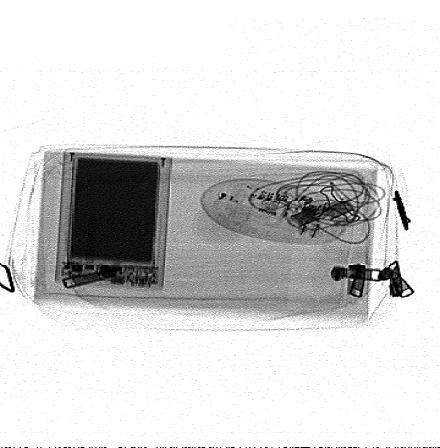Powerbank: (56, 150, 171, 290)
